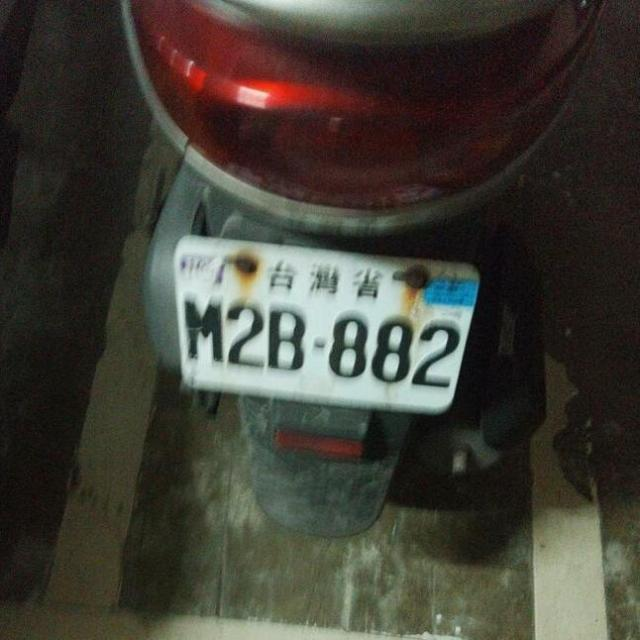W: (155, 216, 490, 432)
